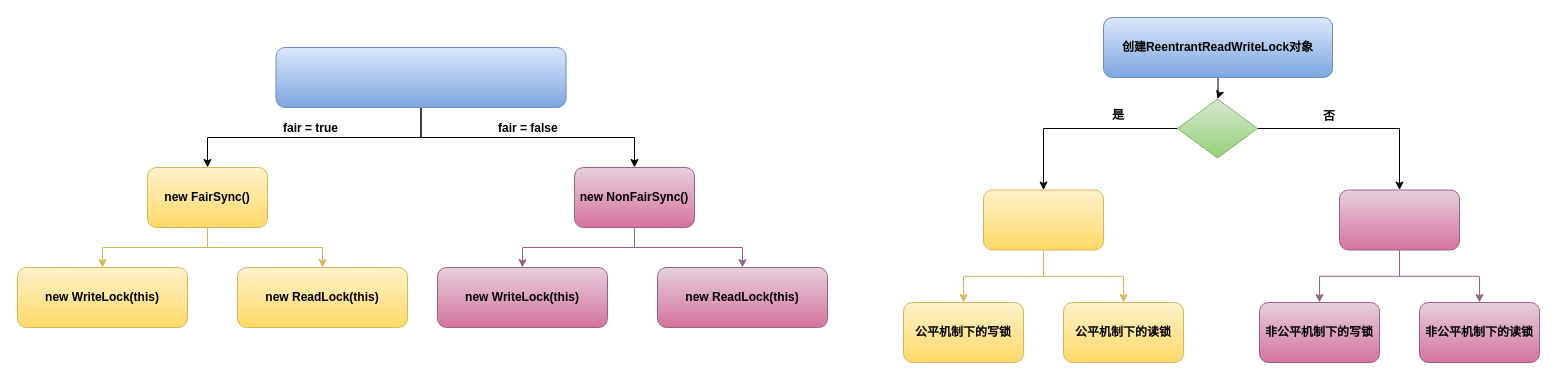
Image size: 1557x380. Some labels were removed from this diagram. Here are the shapes that lost their labels. From the top down, the box of each, then its label:
(275, 46, 566, 108): new ReentrantReadWriteLock( boolean fair)
(1176, 98, 1258, 158): 是否公平
(982, 189, 1104, 250): 公平锁
(1338, 189, 1460, 250): 非公平锁
